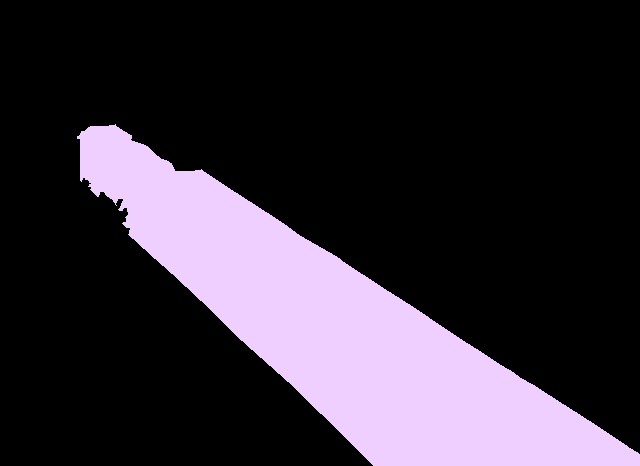Train: (77, 124, 640, 466)
